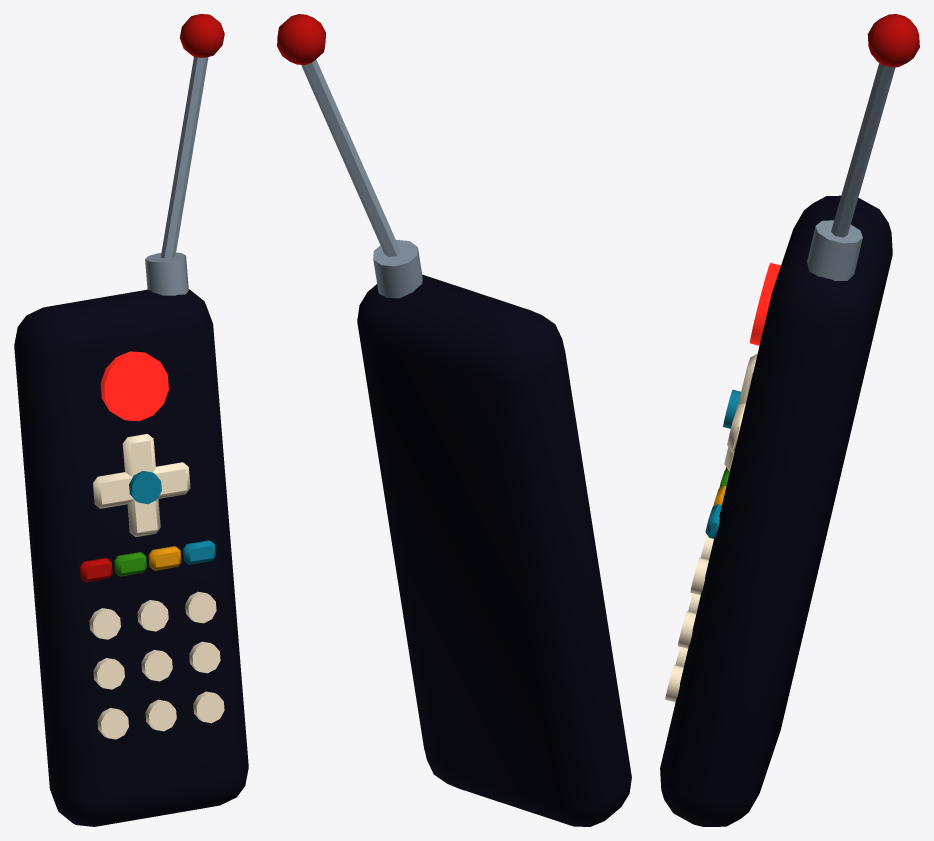
The model's file is RemoteControl.fbx.
3 views of the same model, side by side, from view 1: azimuth 30°, elevation 25°; view 2: azimuth 150°, elevation 25°; view 3: azimuth 270°, elevation 25° (orthographic). The views are drawn at different scales.
Visible parts, largest first — view 1: RemoteControl; view 2: RemoteControl; view 3: RemoteControl.
Boxes of the visible parts, left/top/right/bottom form: RemoteControl: left=14, top=14, right=248, bottom=826; RemoteControl: left=277, top=14, right=631, bottom=826; RemoteControl: left=660, top=14, right=919, bottom=826.
Size of the model in its own units: 1.31 by 3.82 by 1.06.
